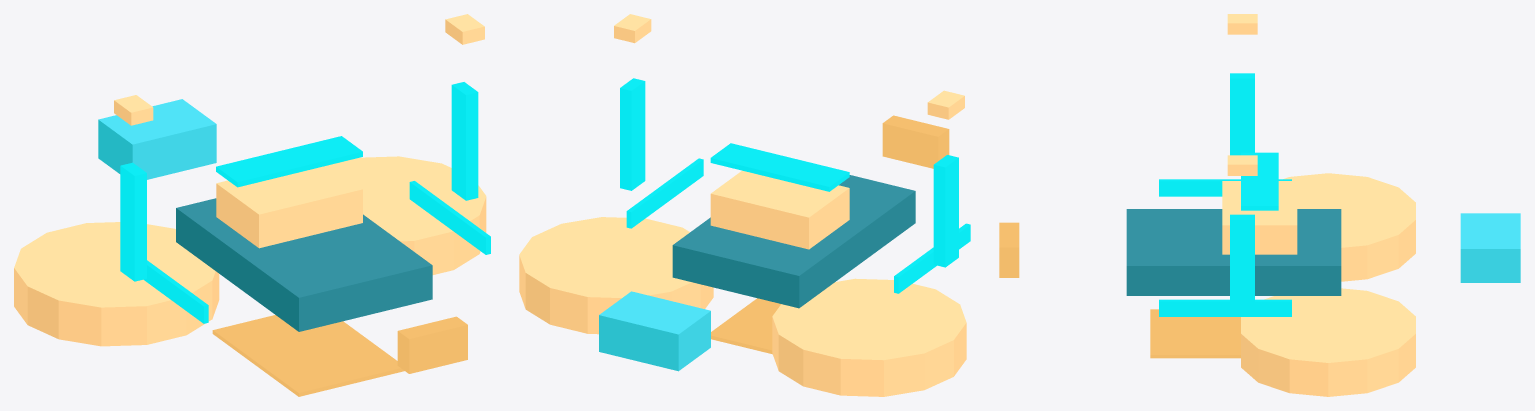
File: bike_interceptor.glb
3 views of the same model, side by side, from view 1: azimuth 30°, elevation 25°; view 2: azimuth 150°, elevation 25°; view 3: azimuth 270°, elevation 25° (orthographic). The views are drawn at different scales.
Parts seen in each view (by area): view 1: chassis, wheel_l, wheel_r, trail_underglow, canopy_wheel, body_nose, glow_strip_roof, emitter, wheel_pylon.001, wheel_pylon, glow_strip_side.001, glow_strip_side (+2 smaller); view 2: wheel_l, wheel_r, chassis, canopy_wheel, body_nose, glow_strip_roof, wheel_pylon.001, wheel_pylon, emitter, trail_underglow, glow_strip_side.001, glow_strip_side (+2 smaller); view 3: wheel_r, chassis, wheel_l, body_nose, trail_underglow, canopy_wheel, wheel_pylon.001, glow_strip_side.001, wheel_pylon, glow_strip_roof, glow_strip_side, emitter (+2 smaller).
Boxes of the visible parts, bbox=[...] form: chassis: bbox=[176, 198, 432, 331]; wheel_l: bbox=[14, 222, 219, 346]; wheel_r: bbox=[330, 156, 486, 274]; trail_underglow: bbox=[212, 315, 404, 396]; canopy_wheel: bbox=[216, 165, 362, 248]; body_nose: bbox=[98, 99, 216, 179]; glow_strip_roof: bbox=[216, 136, 362, 187]; emitter: bbox=[397, 316, 467, 373]; wheel_pylon.001: bbox=[451, 82, 478, 200]; wheel_pylon: bbox=[120, 162, 146, 281]; glow_strip_side.001: bbox=[409, 181, 490, 254]; glow_strip_side: bbox=[144, 260, 208, 323]; wheel_l: bbox=[772, 278, 966, 396]; wheel_r: bbox=[519, 217, 713, 334]; chassis: bbox=[672, 175, 915, 308]; canopy_wheel: bbox=[710, 170, 849, 249]; body_nose: bbox=[599, 291, 710, 371]; glow_strip_roof: bbox=[710, 143, 849, 191]; wheel_pylon.001: bbox=[620, 78, 645, 190]; wheel_pylon: bbox=[933, 155, 958, 267]; emitter: bbox=[882, 115, 949, 168]; trail_underglow: bbox=[711, 298, 780, 354]; glow_strip_side.001: bbox=[626, 158, 703, 228]; glow_strip_side: bbox=[894, 223, 970, 293]; wheel_r: bbox=[1241, 288, 1415, 396]; chassis: bbox=[1126, 209, 1341, 295]; wheel_l: bbox=[1283, 173, 1415, 281]; body_nose: bbox=[1460, 213, 1520, 282]; trail_underglow: bbox=[1150, 309, 1240, 358]; canopy_wheel: bbox=[1222, 181, 1297, 254]; wheel_pylon.001: bbox=[1230, 214, 1254, 312]; glow_strip_side.001: bbox=[1159, 299, 1291, 316]; wheel_pylon: bbox=[1230, 73, 1254, 155]; glow_strip_roof: bbox=[1241, 152, 1278, 210]; glow_strip_side: bbox=[1159, 179, 1291, 196]; emitter: bbox=[999, 222, 1019, 277].
Bounding box in the file's own units: 0.9 × 0.5443 × 1.04.
